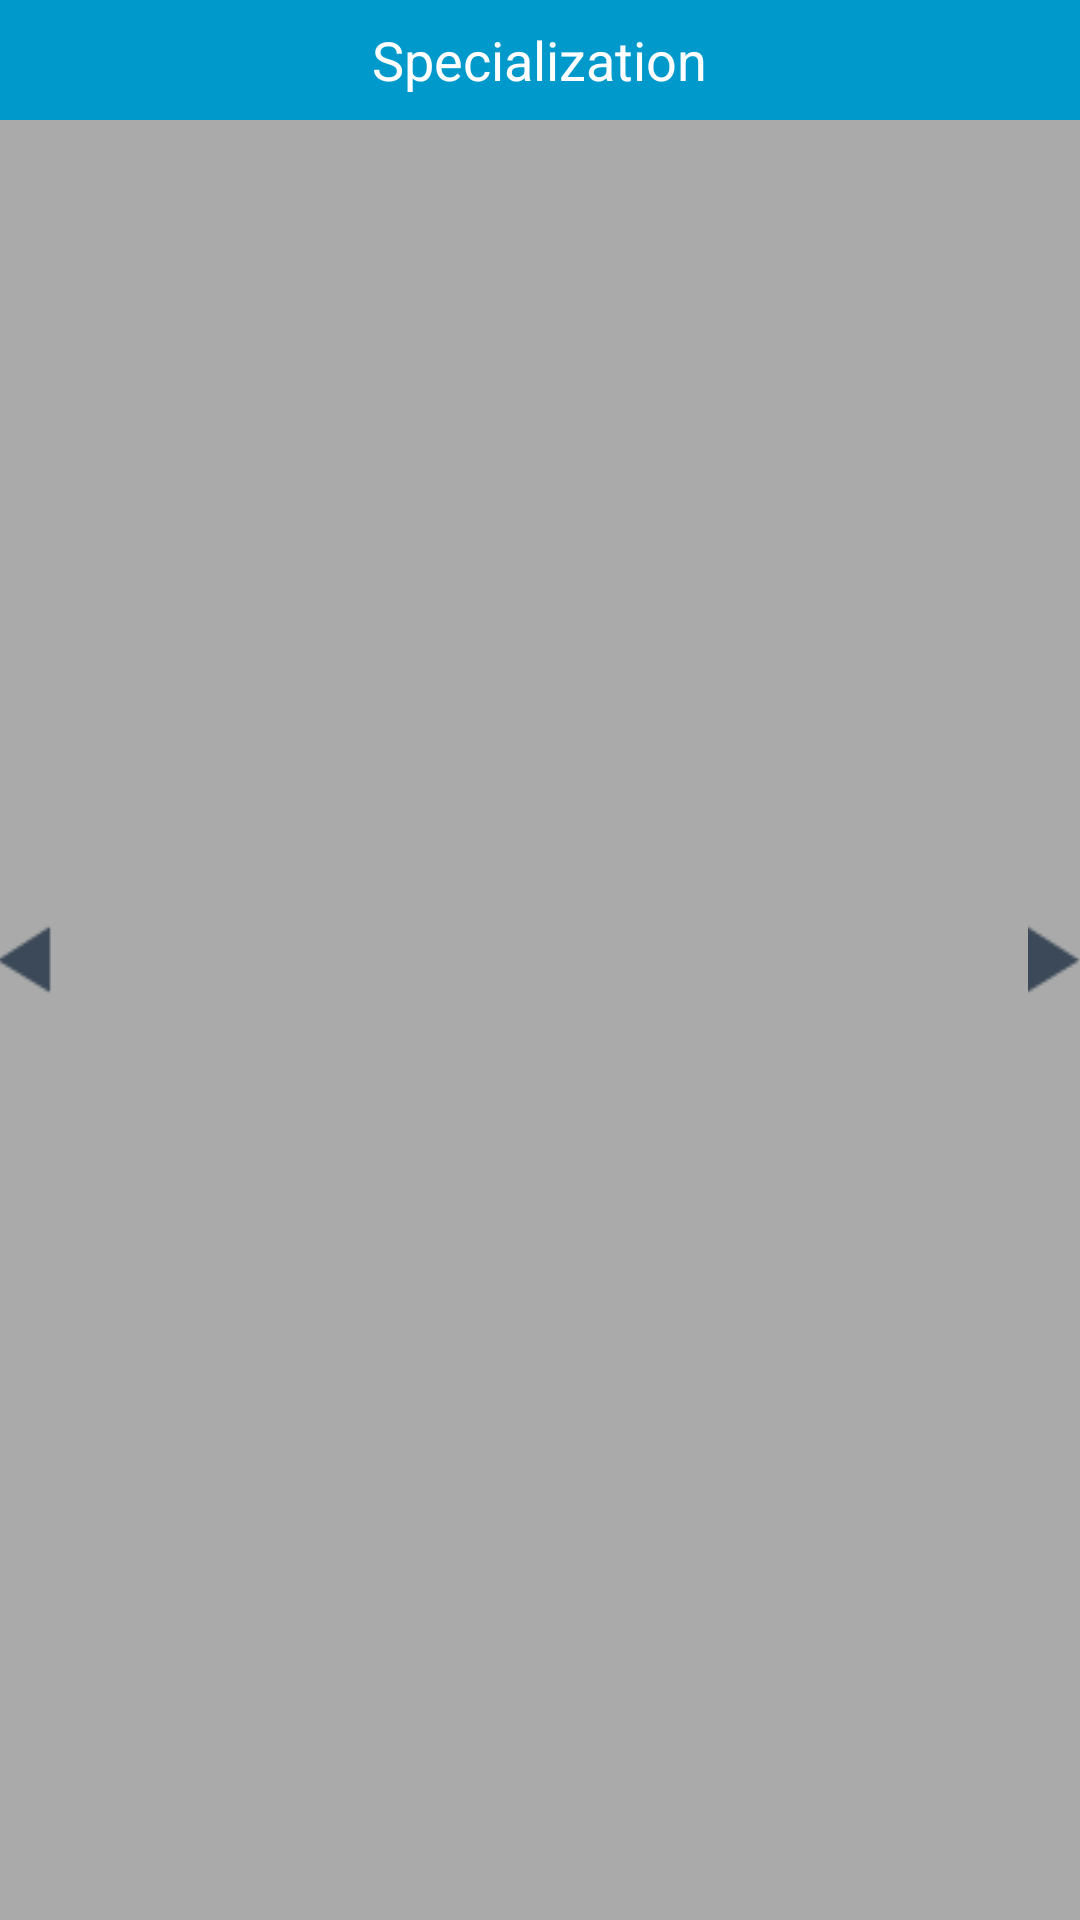

Named icons in this screenshot (1080*1920) and their centers, (x,y):
arrow left: (25,959)
arrowright: (1053,959)
